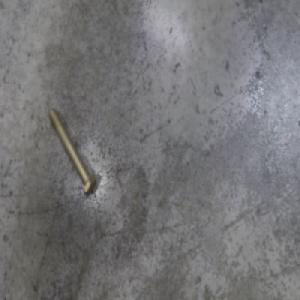Bolt: (47, 103, 98, 198)
